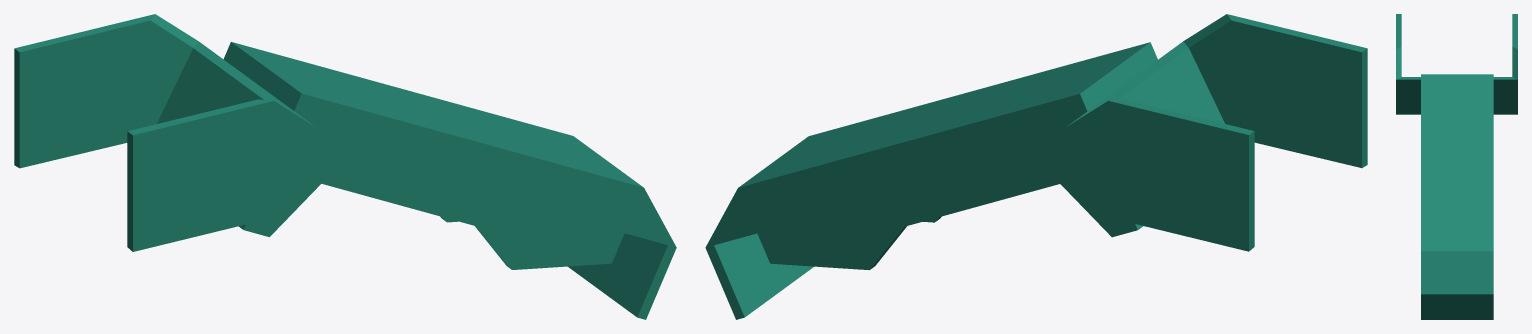
Rendered from right_end1_collision.dae.
3 views of the same model, side by side, from view 1: azimuth 30°, elevation 25°; view 2: azimuth 150°, elevation 25°; view 3: azimuth 270°, elevation 25° (orthographic). The views are drawn at different scales.
Parts seen in each view (by area): view 1: right_end1_000; view 2: right_end1_000; view 3: right_end1_000.
Part boxes in pixels (box(x1,y1,x2,y2)): right_end1_000: box(14, 14, 676, 319); right_end1_000: box(705, 14, 1367, 319); right_end1_000: box(1396, 14, 1517, 319).
Size of the model in its own units: 0.1174 by 0.0425 by 0.0659.
